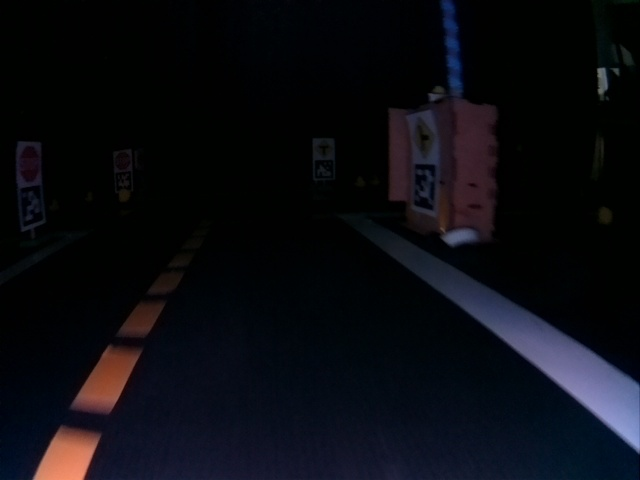Duckie: (118, 189, 128, 200)
Intersection sign: (412, 116, 436, 158), (315, 139, 332, 158)
QR code: (412, 163, 436, 212), (20, 185, 44, 227), (315, 160, 333, 178), (116, 173, 131, 190)
Stop sign: (19, 145, 39, 182), (114, 151, 132, 168)
